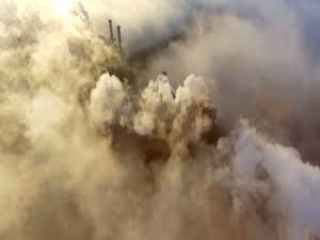smoke: (86, 70, 230, 156)
